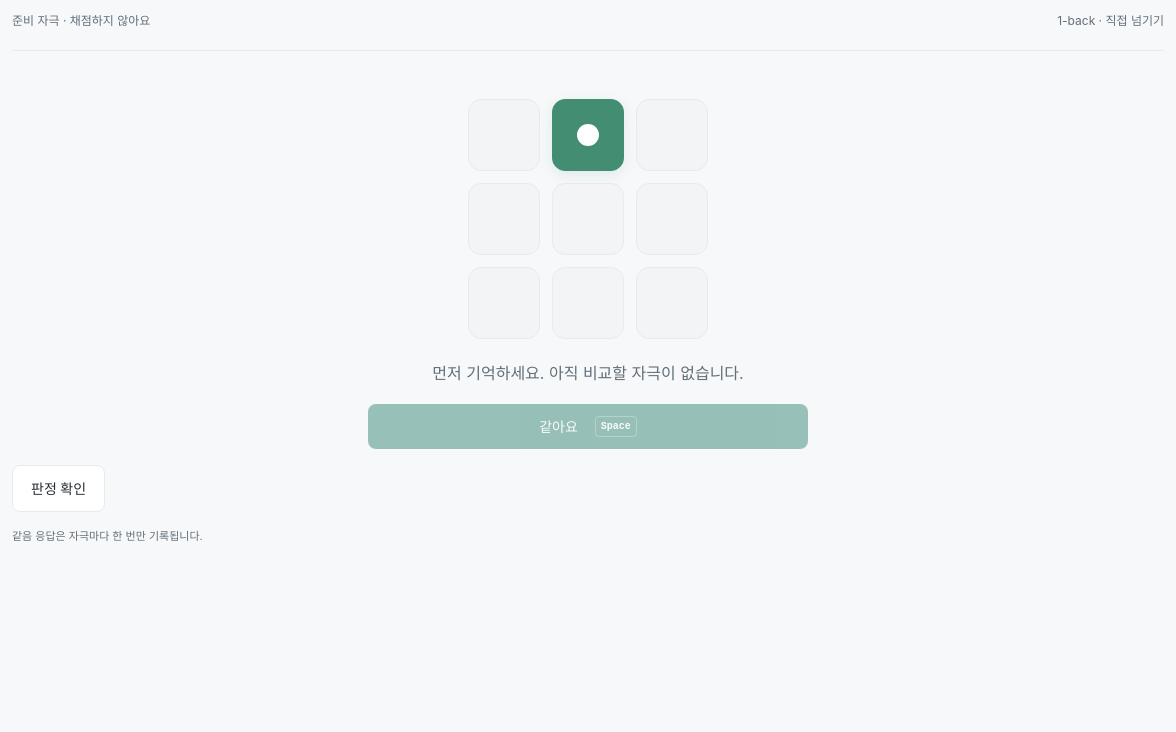
Test: N-back practice gives feedback before moving, and scores only once
Later steps or results of the test are not shown.
Step 1. Click the button "판정 확인" → (59, 488), box [12,465,105,512]
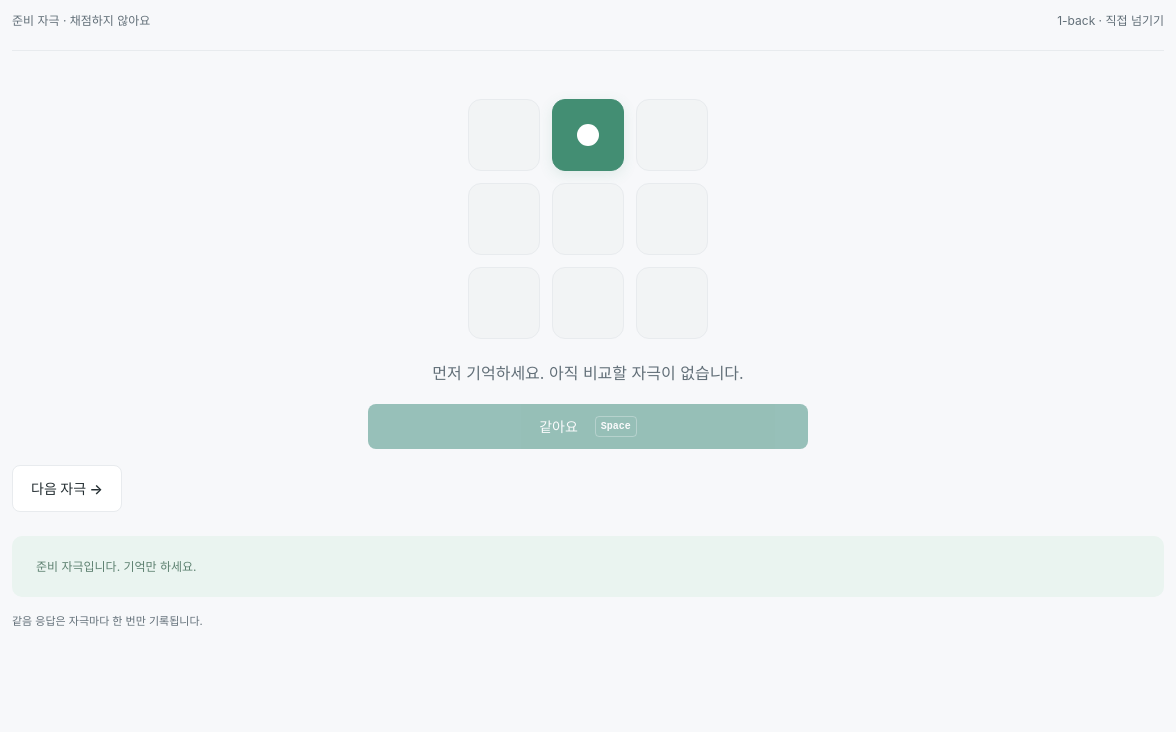
Expected: the message shows "준비 자극", [36,559,197,574]
Step 2. Click the button "다음 자극 →" → (67, 488), box [12,465,122,512]
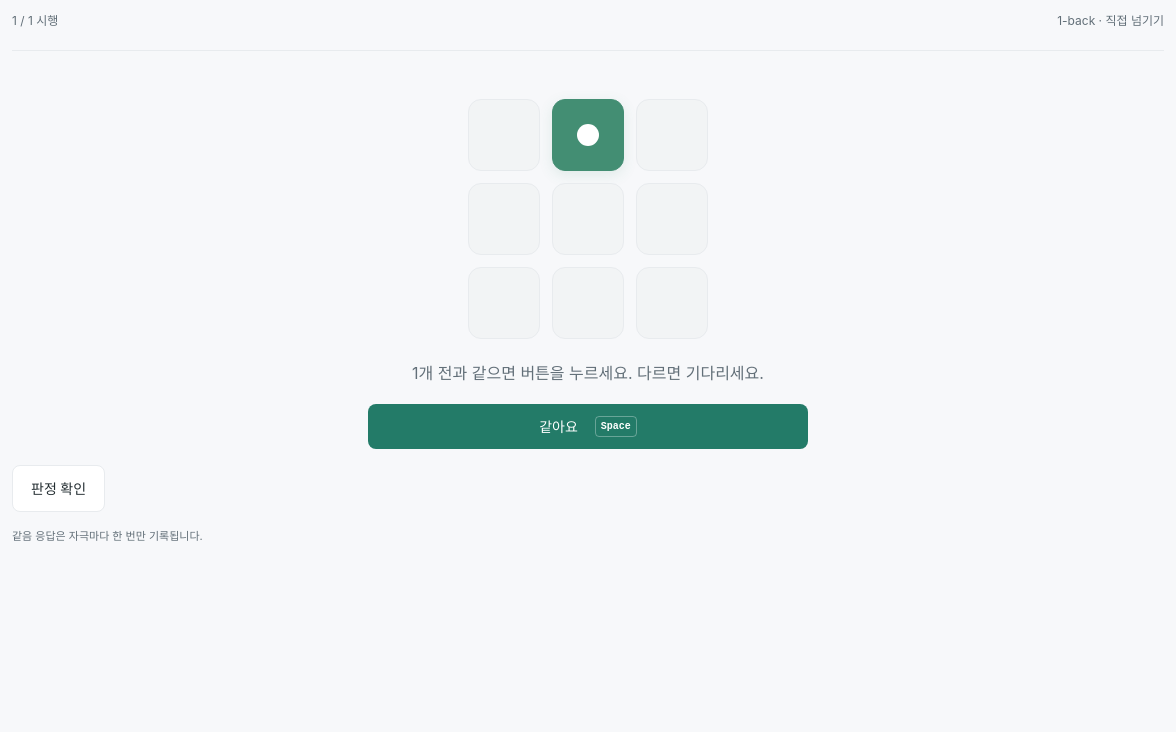
Step 3. Click the button "같아요 Space" → (558, 426), box [368,404,808,449]
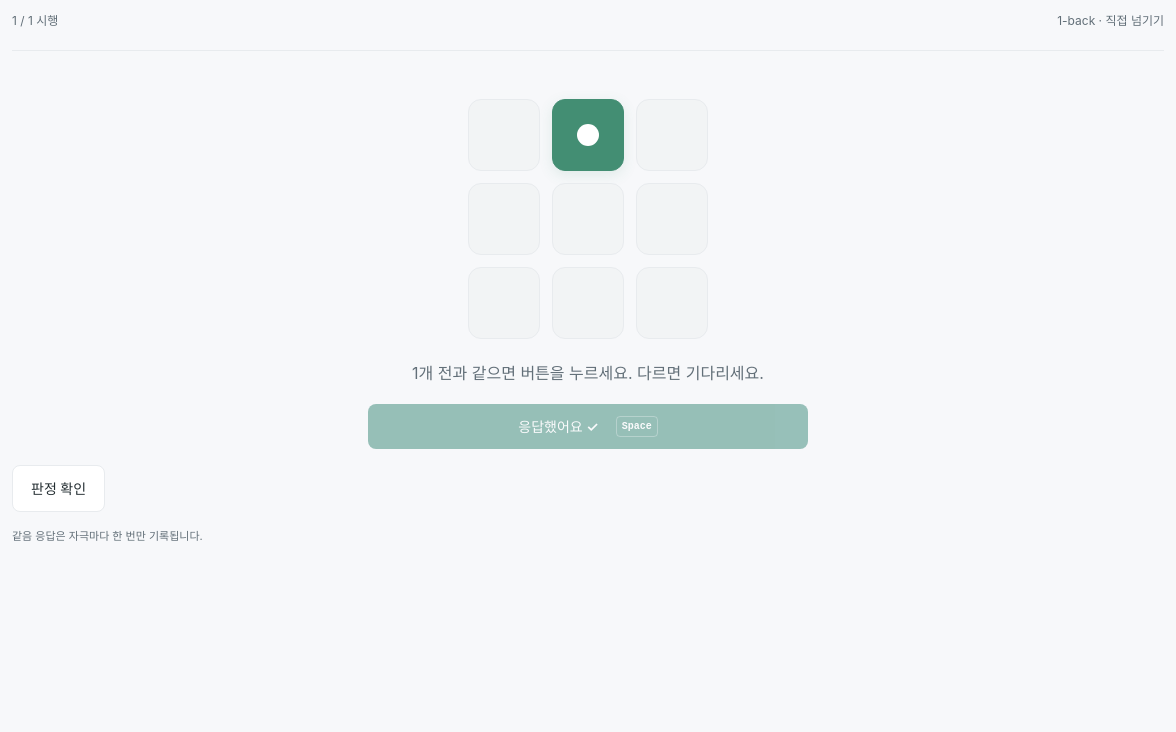
Step 4. Click the button "판정 확인" → (59, 488), box [12,465,105,512]
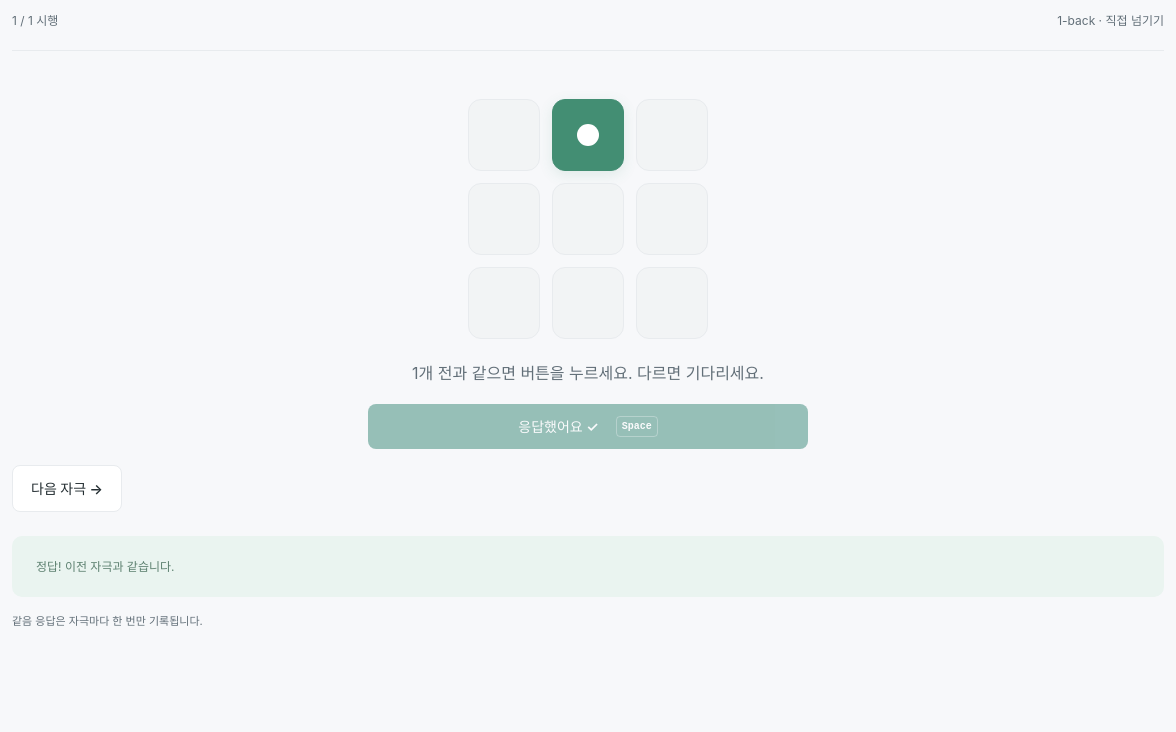
Expected: the message shows "정답", [36,559,174,574]
